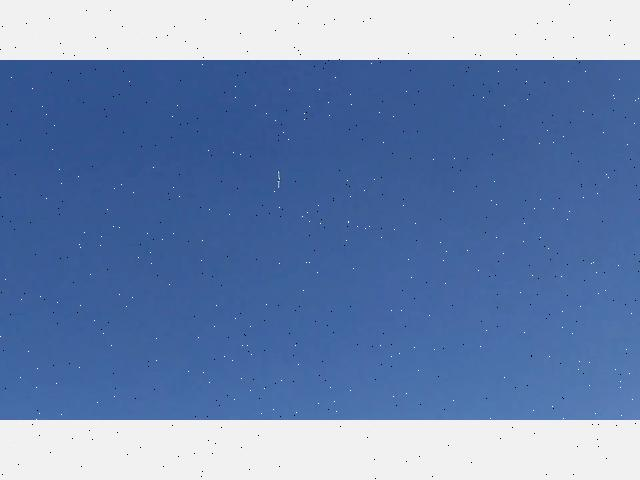Anti-Drone: (265, 166, 295, 199)
